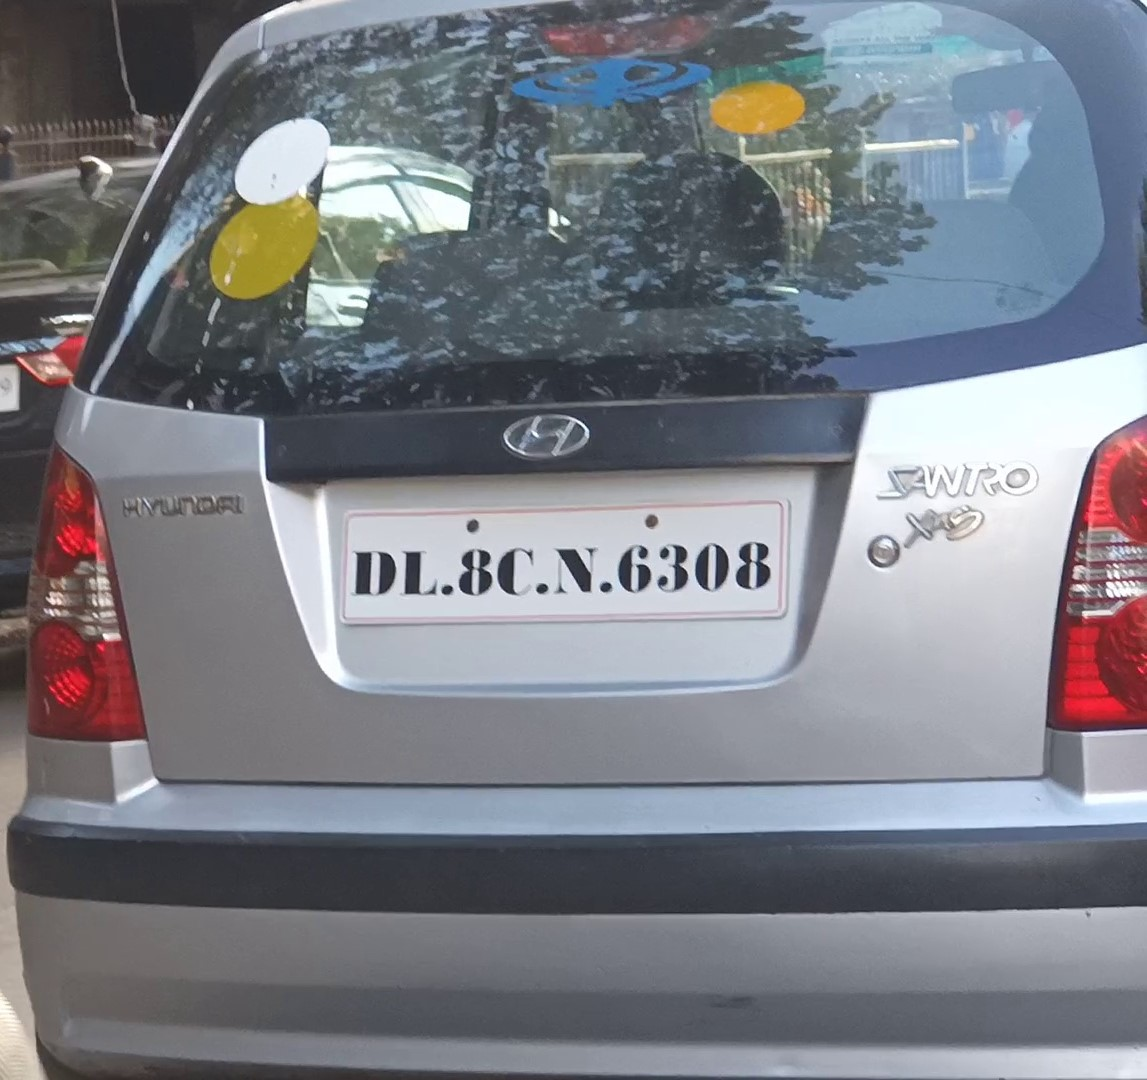DL8CN6308: (346, 501, 784, 625)
